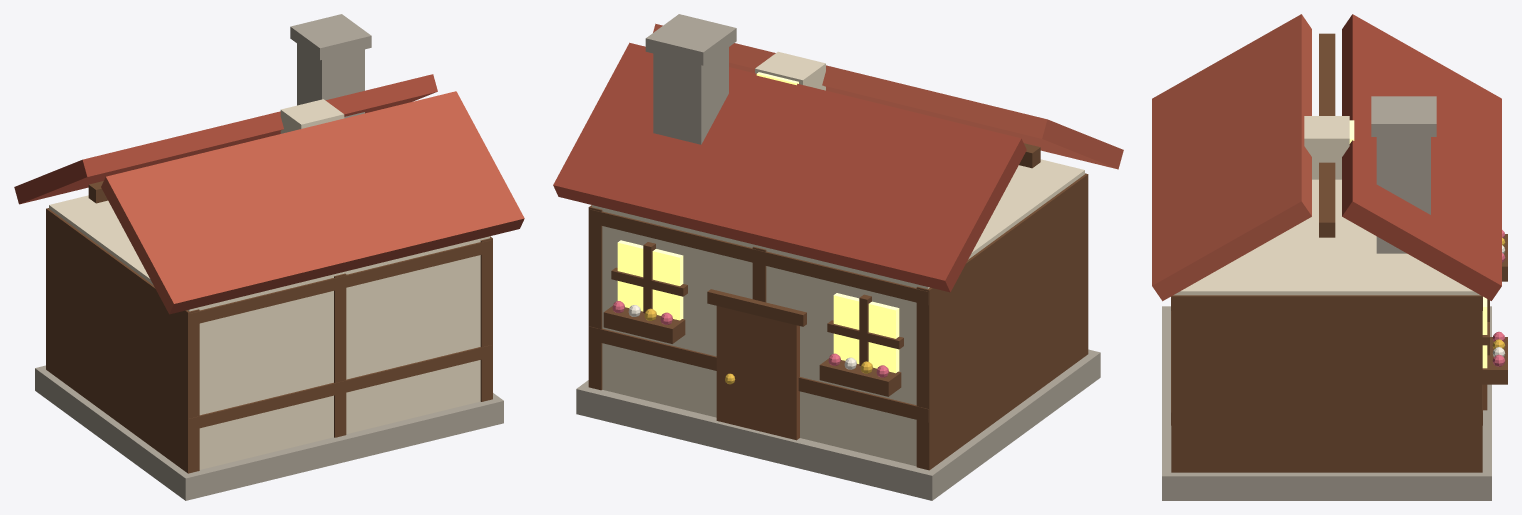
File: cottage.glb
The picture shows the model from 3 angles, left to right: view 1: azimuth 30°, elevation 25°; view 2: azimuth 150°, elevation 25°; view 3: azimuth 270°, elevation 25°; orthographic projection. The views are drawn at different scales.
Parts seen in each view (by area): view 1: cottage; view 2: cottage; view 3: cottage.
Boxes of the visible parts, <box> form: cottage: <box>14,14,524,500</box>; cottage: <box>553,14,1123,500</box>; cottage: <box>1152,14,1507,500</box>.
Bounding box in the file's own units: 4.95 × 4.36 × 3.94.
